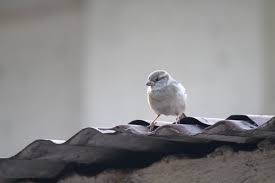hsparrow: (142, 68, 191, 133)
